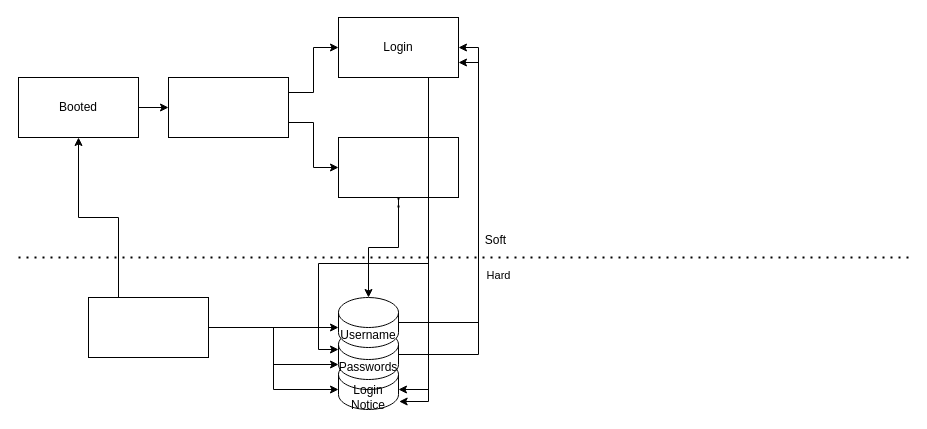
This 927x429 diagram has some shape labels left out. The shapes that lost their labels are listed below. From the top down, each one's centre as x and y in pixels, then its label:
At (228,107): "Selection".
At (398,167): "Signup".
At (148,327): "Server".
